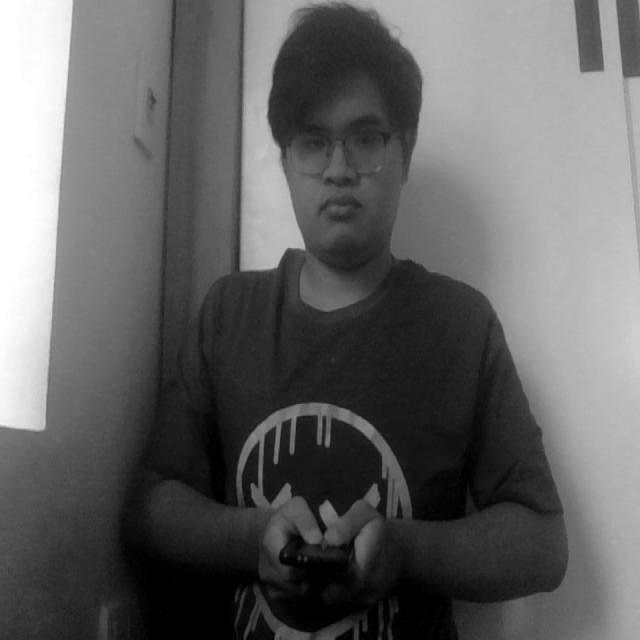phone: (274, 496, 371, 594)
